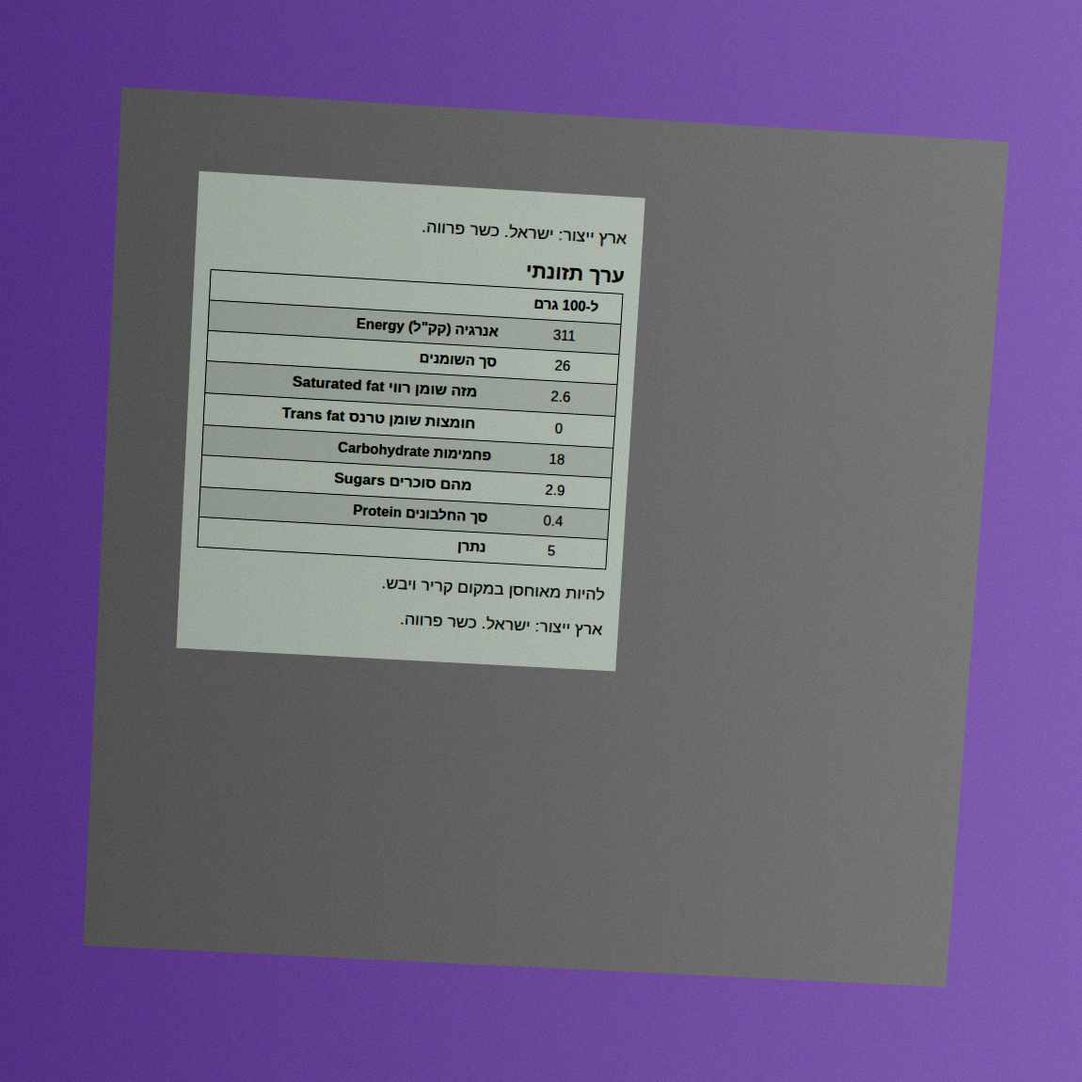carbs: (547, 450, 567, 469)
energy: (551, 326, 578, 346)
fat: (552, 356, 573, 375)
protein: (541, 511, 565, 531)
